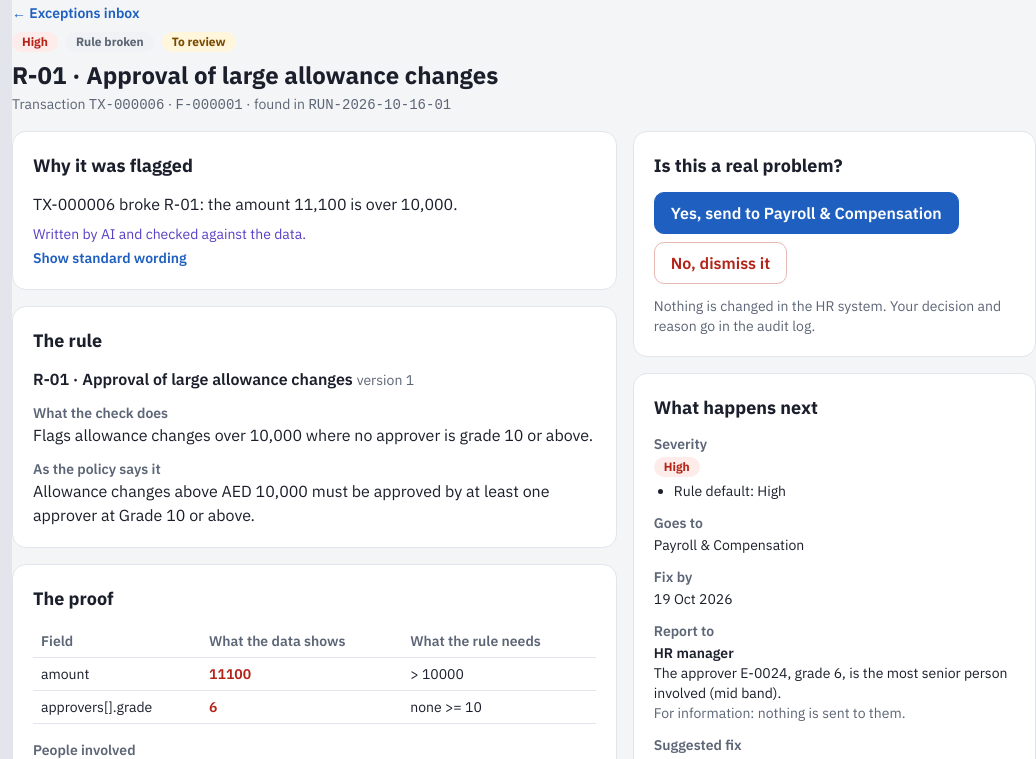
it: FlagPage › labels AI wording and shows the standard wording on request
Check: the element with test id "flag-why" shows "TX-000006 broke R-01: the amount 11,100 is over 10,000.", box [33,194,458,214]
Check: the element with test id "flag-why" shows "Written by AI and checked against the data.", box [33,225,306,243]
Step 1. Click the button "Show standard wording" → (110, 258), box [33,248,187,268]
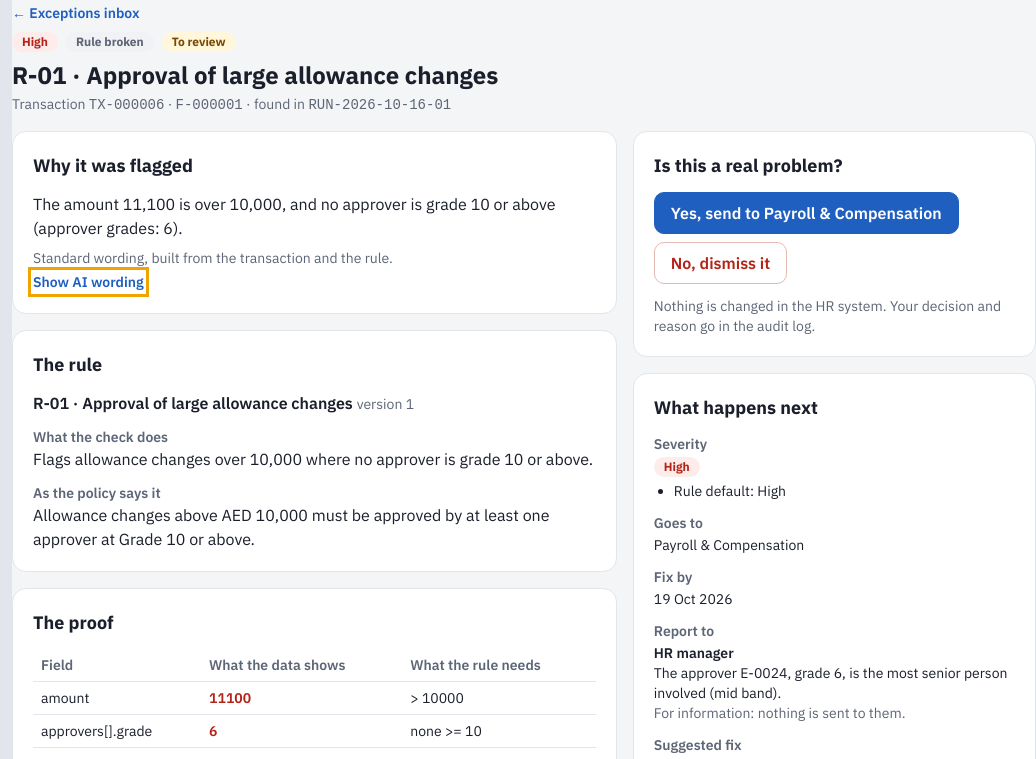
Check: the element with test id "flag-why" shows "no approver is grade 10 or above", box [33,194,555,238]
Check: the element with test id "flag-why" shows "Standard wording, built from the transaction and the rule.", box [33,249,393,267]
Check: the button "Show AI wording" is shown, box [33,272,144,292]
